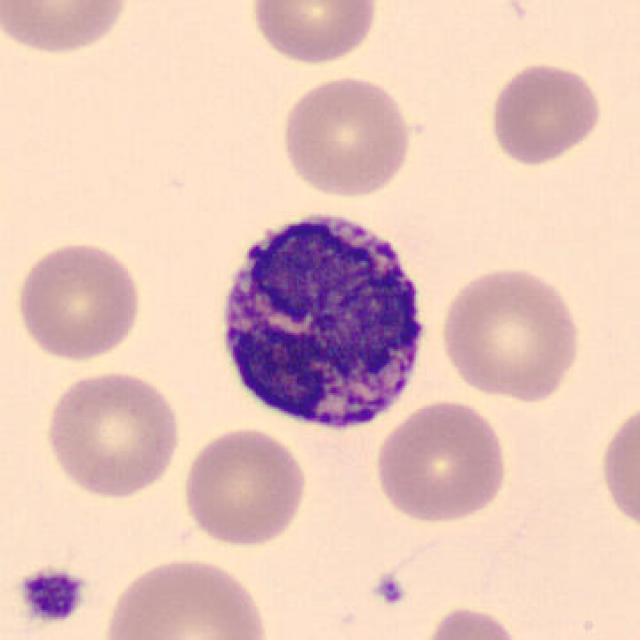Basophil: (204, 194, 441, 441)
Platelets: (14, 564, 91, 626), (370, 572, 410, 608)
RBC: (435, 261, 585, 404), (41, 366, 185, 501), (372, 397, 512, 527), (277, 72, 416, 201), (12, 238, 146, 365), (178, 423, 311, 548), (98, 552, 274, 640), (486, 58, 606, 168), (247, 0, 382, 67), (0, 0, 133, 58), (596, 397, 638, 536), (418, 603, 524, 640)
